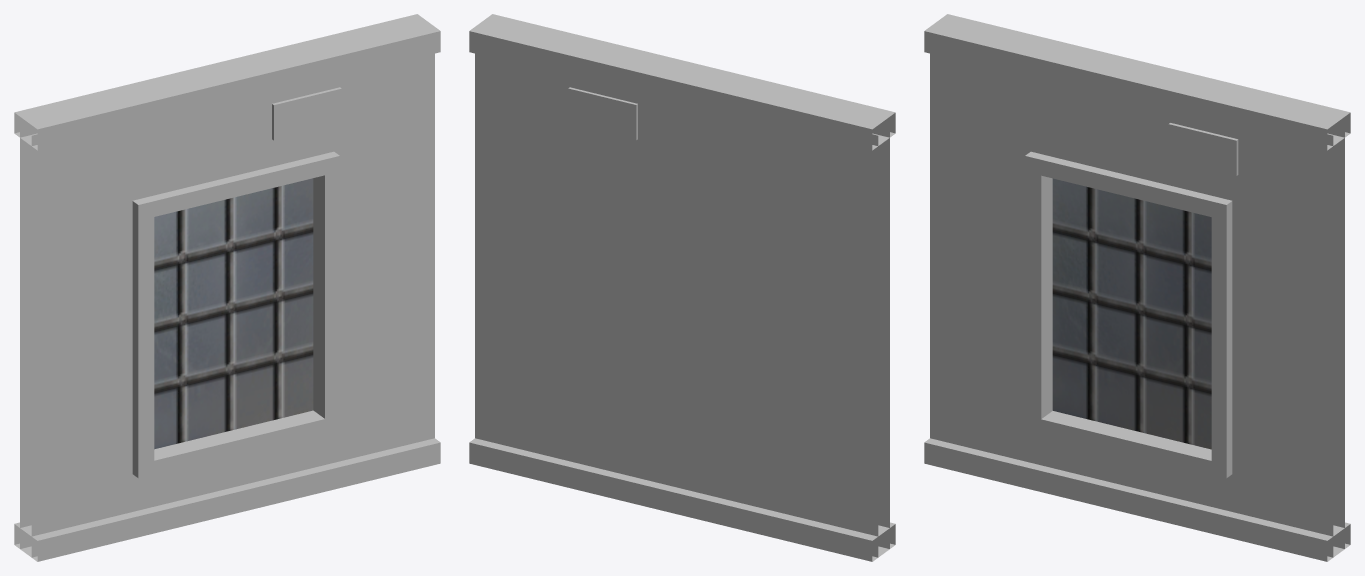
Rendered from Wall_1_6.fbx.
3 views of the same model, side by side, from view 1: azimuth 30°, elevation 25°; view 2: azimuth 150°, elevation 25°; view 3: azimuth 330°, elevation 25° (orthographic).
Parts seen in each view (by area): view 1: polySurface9700; view 2: polySurface9700; view 3: polySurface9700.
Boxes of the visible parts, x1,y1,x2,y2 form: polySurface9700: [14, 14, 440, 561]; polySurface9700: [469, 14, 895, 561]; polySurface9700: [924, 14, 1350, 561].
Size of the model in its own units: 4 by 4.1 by 0.4.
